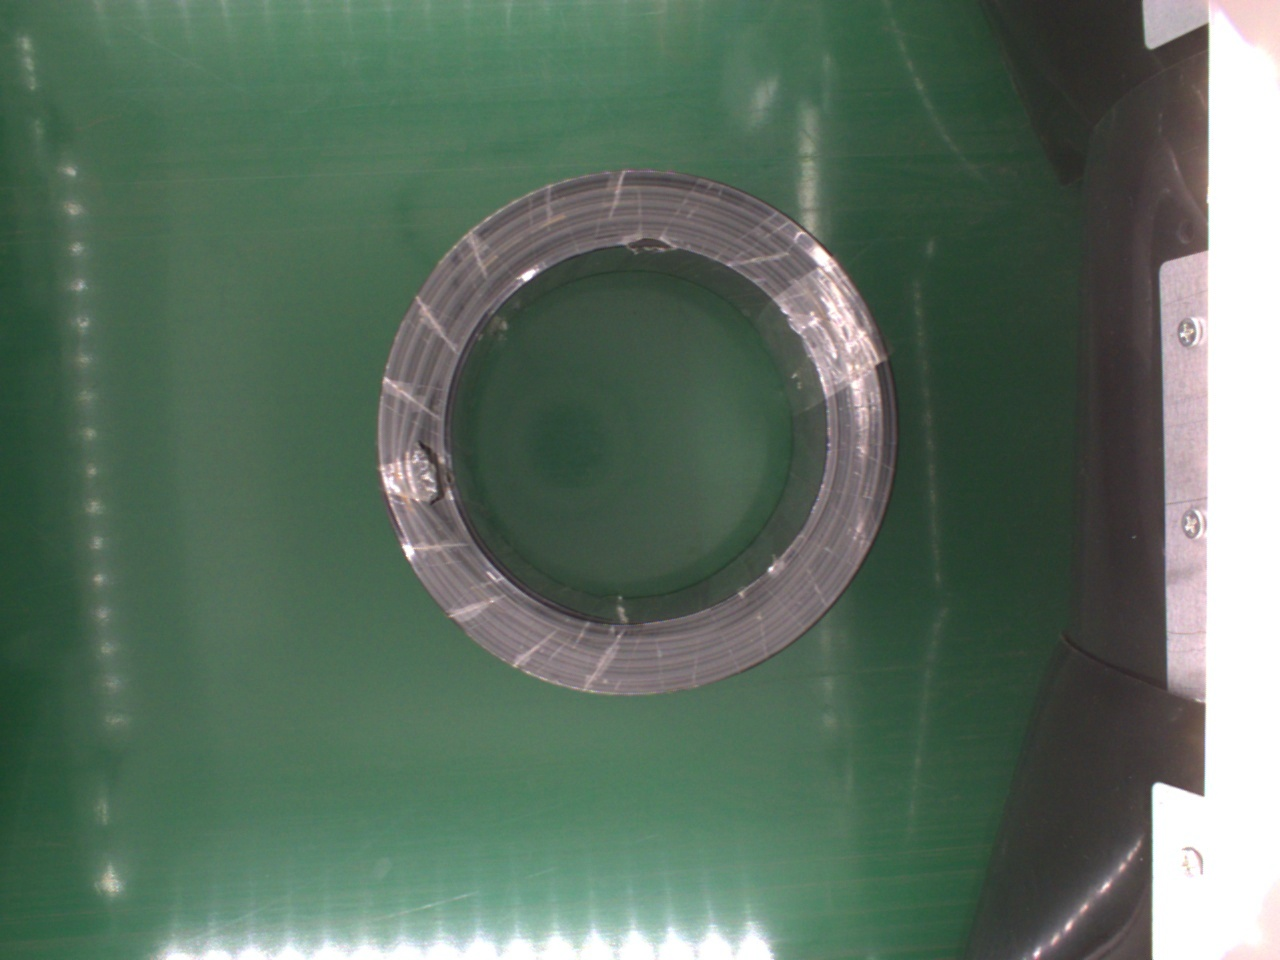black: (376, 166, 893, 704)
